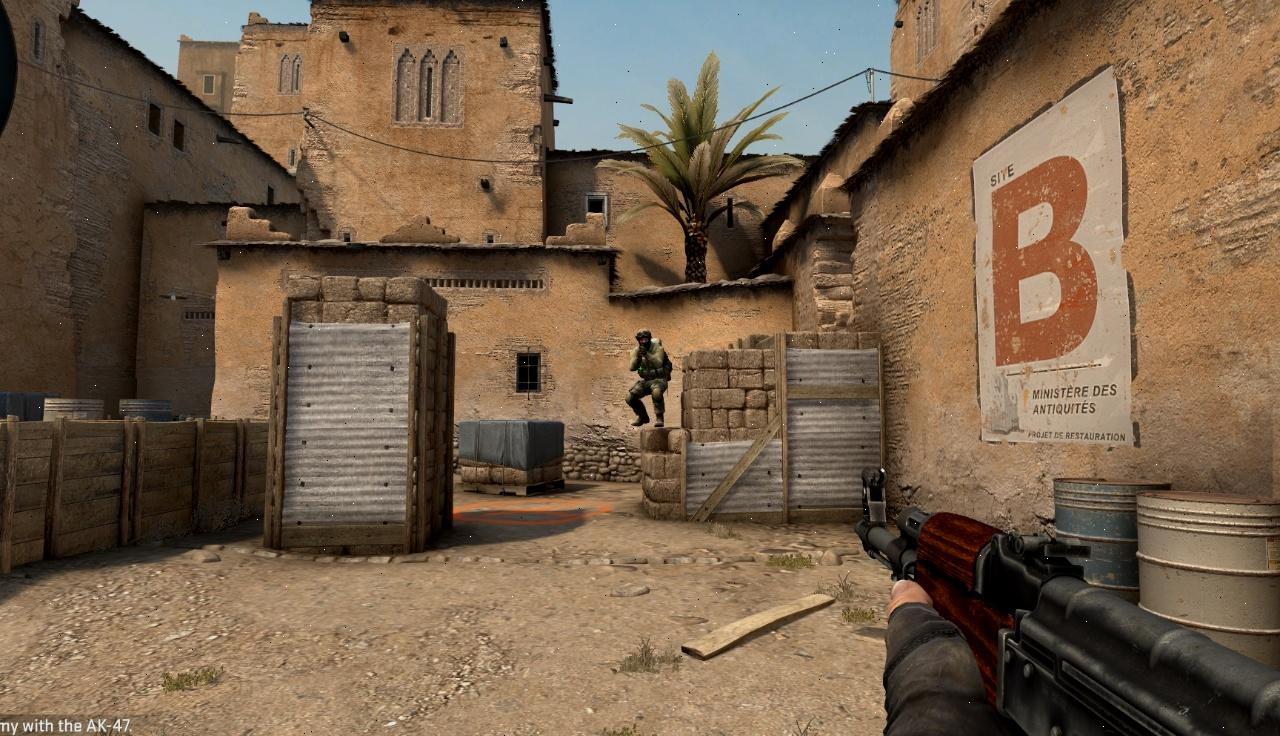ct: (626, 330, 671, 426)
cthead: (636, 330, 652, 348)
rifle: (855, 466, 1280, 736)
